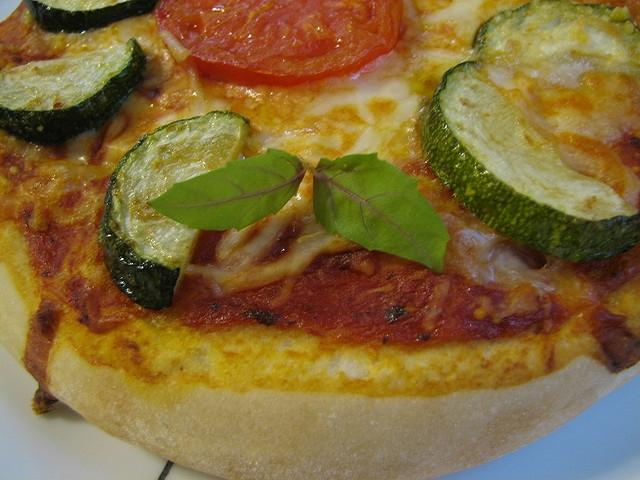cucumber: (420, 60, 640, 266), (100, 110, 252, 310), (0, 37, 147, 146), (29, 1, 156, 33)
tomato: (155, 0, 403, 87)
vegetable marrow: (421, 62, 640, 266), (99, 110, 250, 311), (476, 5, 640, 136), (0, 38, 147, 145), (24, 0, 158, 33)
